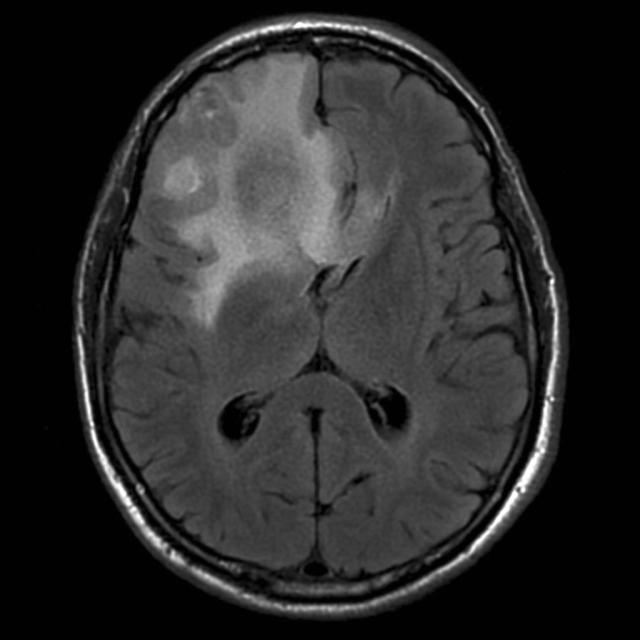Tumor-Cell: (163, 65, 463, 317)
